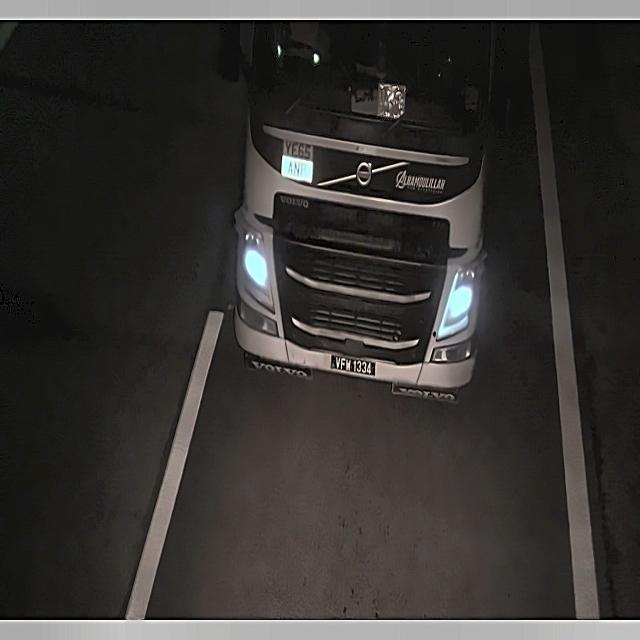car: (327, 348, 380, 383)
